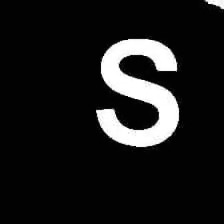LTR_S: (89, 30, 184, 149)
